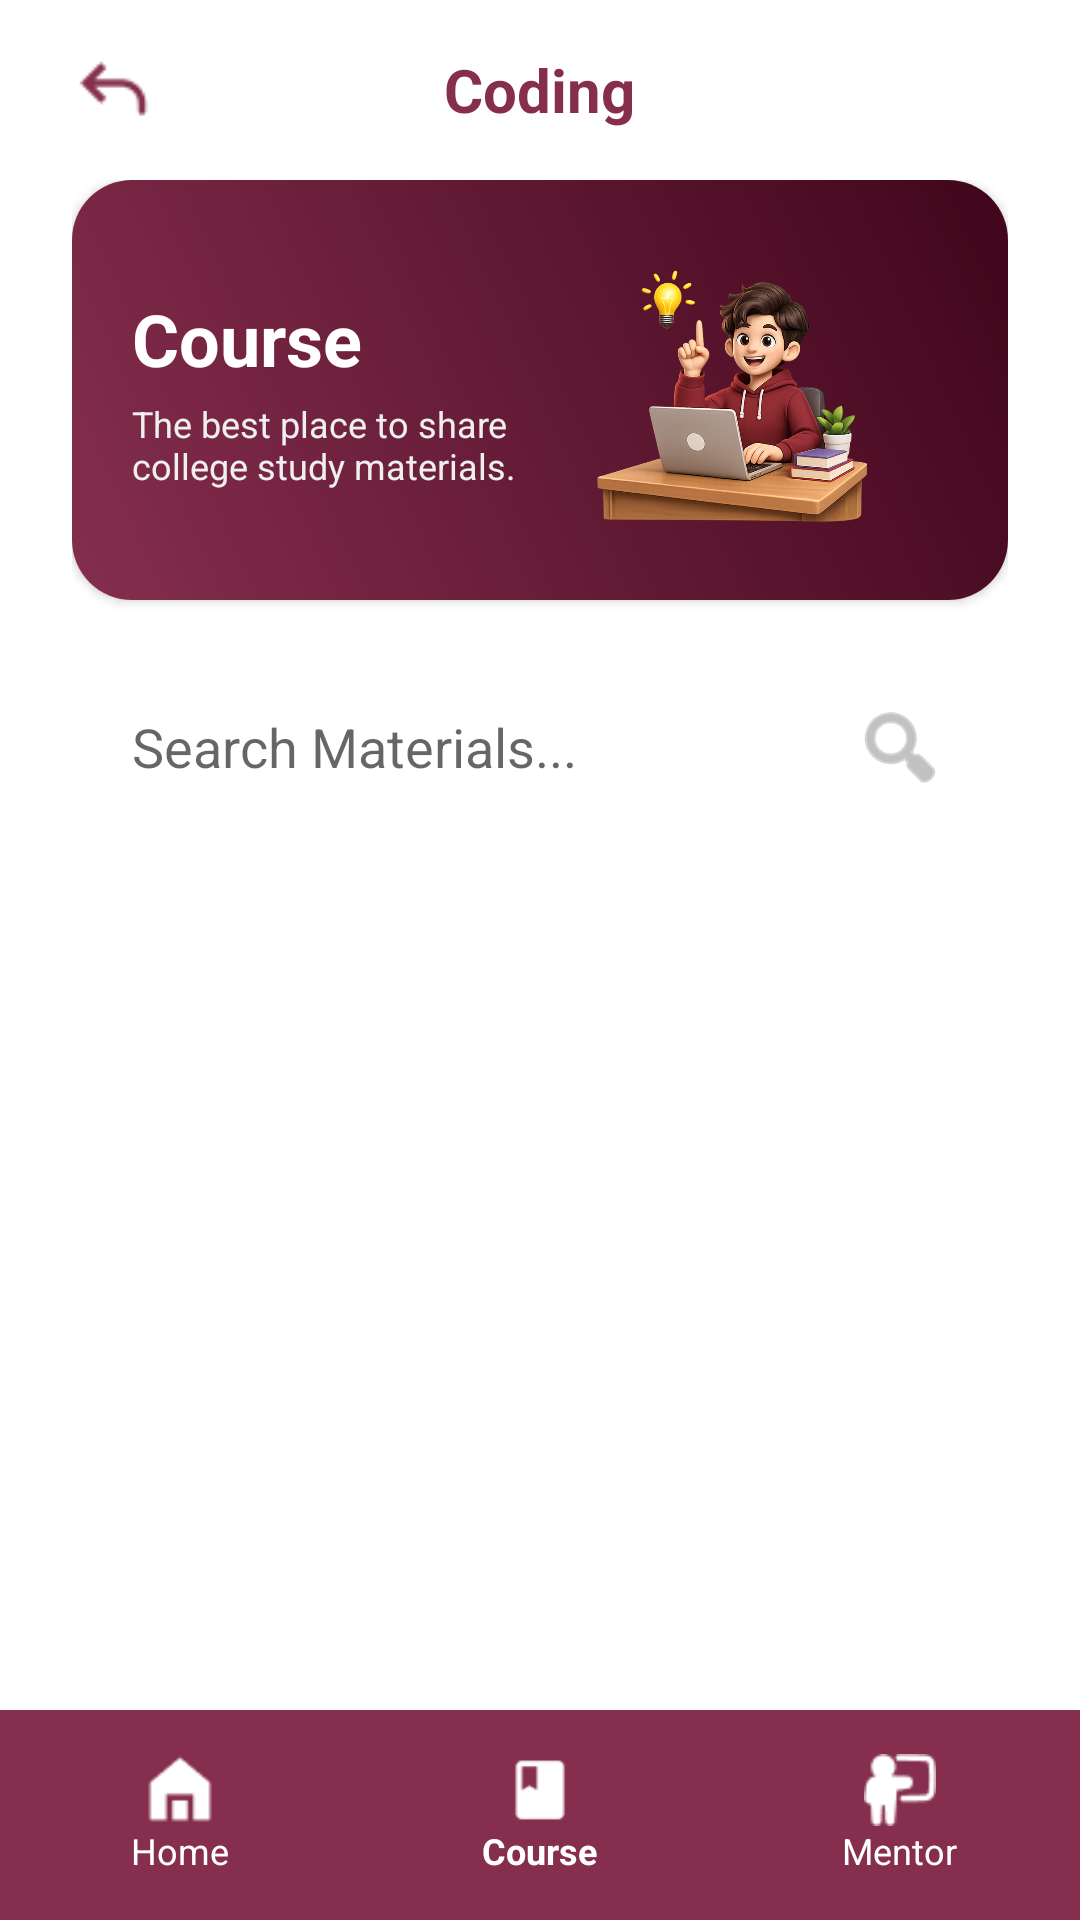

Locate icon controls on the screen. Image size 1080*1920, boxes as [x1,y1,x2,y2].
back: [80,61,148,116]
